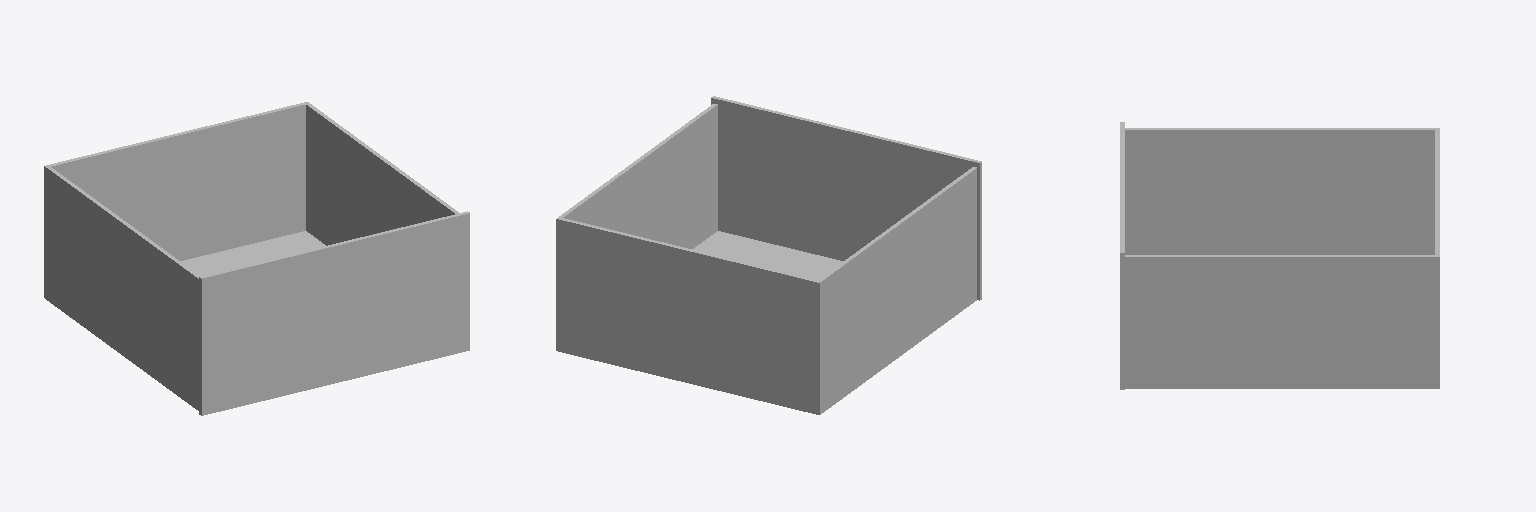
The model's file is night_cozy_drawer2.obj.
3 renders of one model, left to right at view 1: azimuth 30°, elevation 25°; view 2: azimuth 150°, elevation 25°; view 3: azimuth 270°, elevation 25°, orthographic.
Visible parts, largest first — view 1: Cube.039; view 2: Cube.039; view 3: Cube.039.
Part boxes in pixels (x1,y1,x2,y2): Cube.039: (44, 102, 469, 415); Cube.039: (556, 96, 981, 414); Cube.039: (1120, 122, 1439, 389).
Bounding box in the file's own units: 0.4653 × 0.2273 × 0.48.